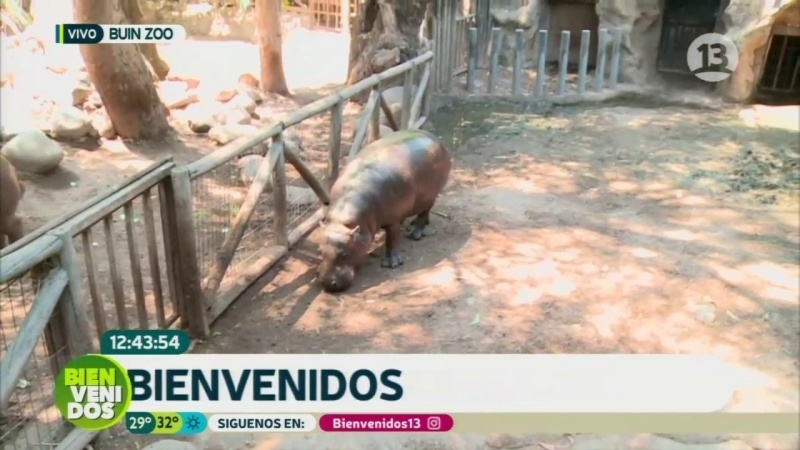hipopotamo: (301, 124, 478, 300)
